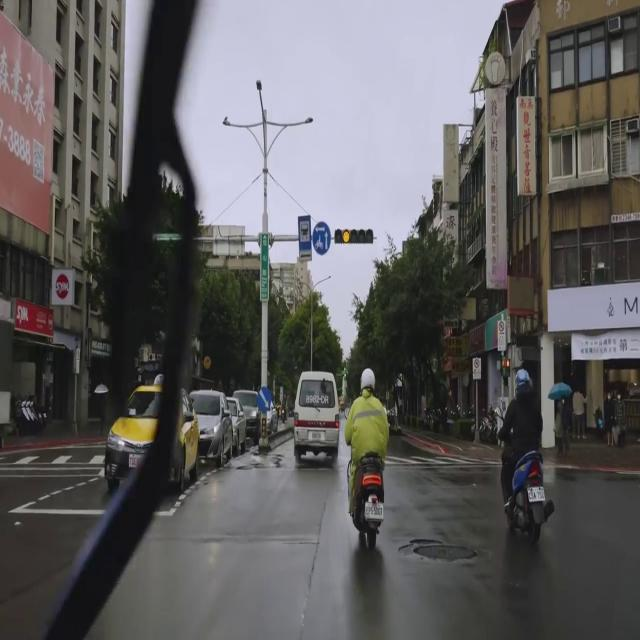yellow light: (334, 228, 374, 245)
